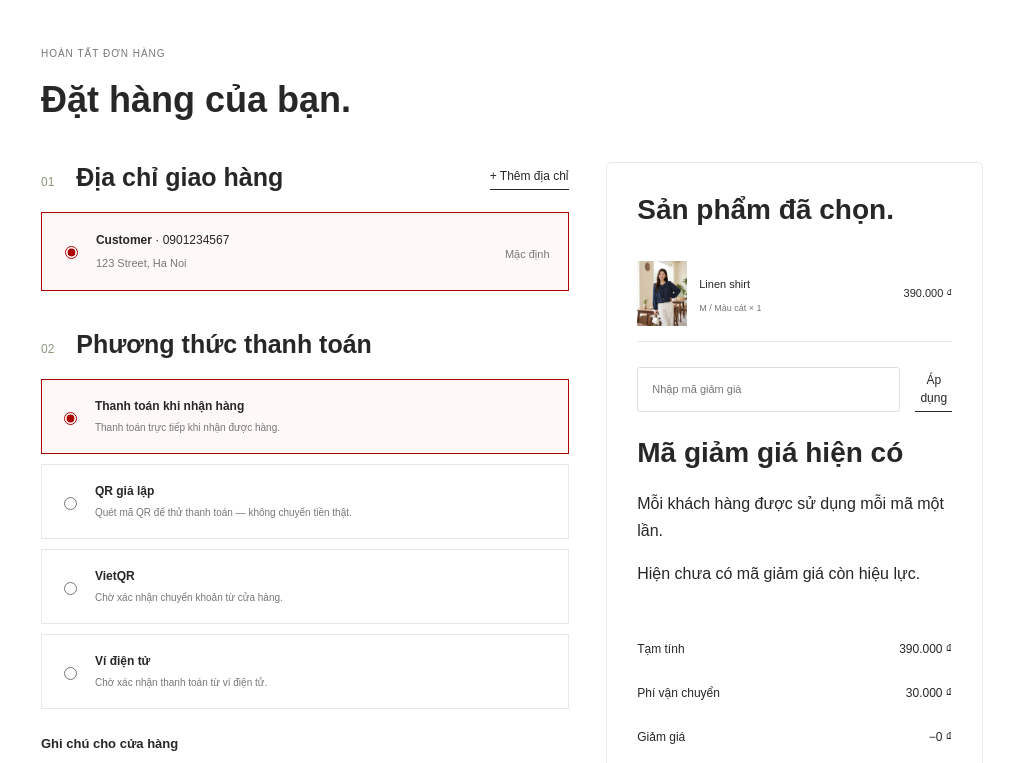
Test case: blocks checkout when an applied coupon is invalid
The width and height of the screenshot is (1024, 763).
Type "BAD" into the field labelled "mã giảm giá". click: (769, 390)
box: 637,367 -> 900,412
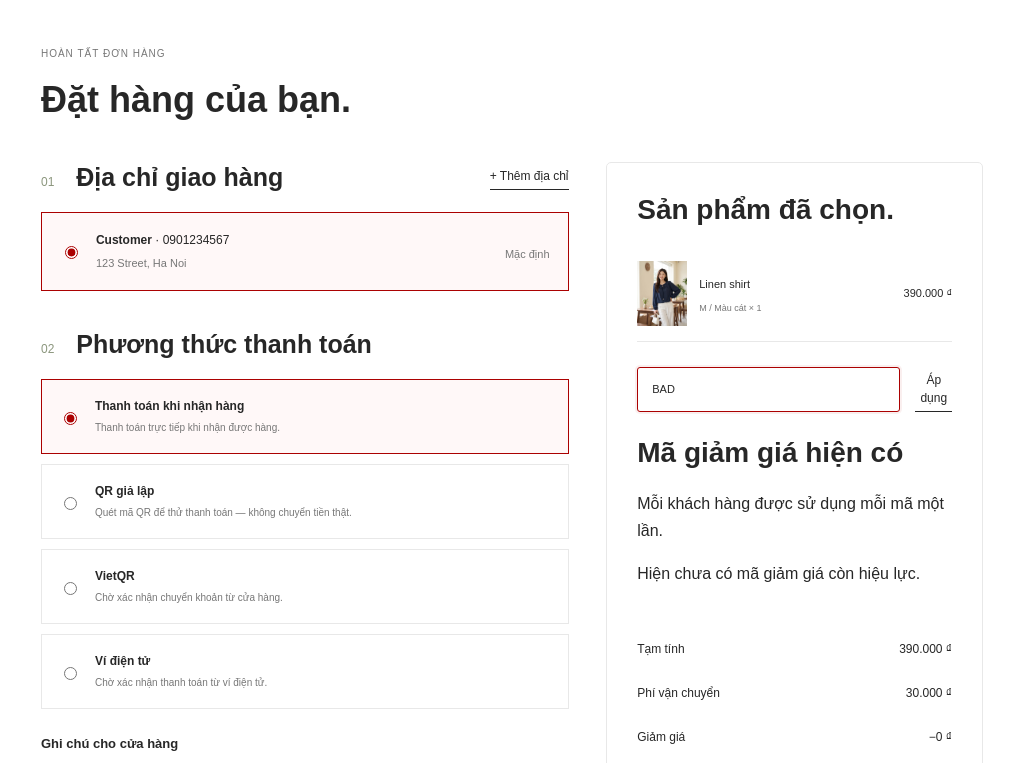
Click the button "Áp dụng". click: (934, 390)
box: 915,367 -> 952,412
(page scrolled)
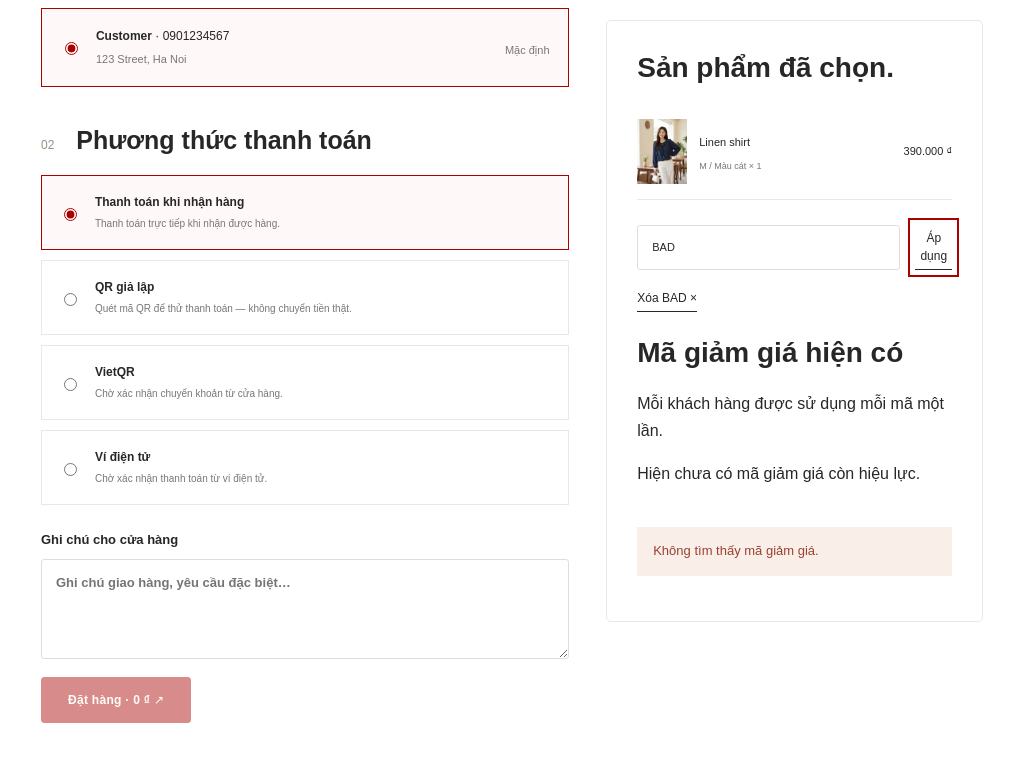
Expected: the message reads "Không tìm thấy mã giảm giá.", 653,544 -> 819,559
Expected: the button "Đặt hàng · 0 ₫ ↗" is disabled, 41,677 -> 191,724
